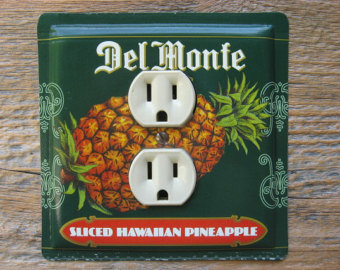outlet: (143, 80, 180, 124), (144, 158, 180, 203)
